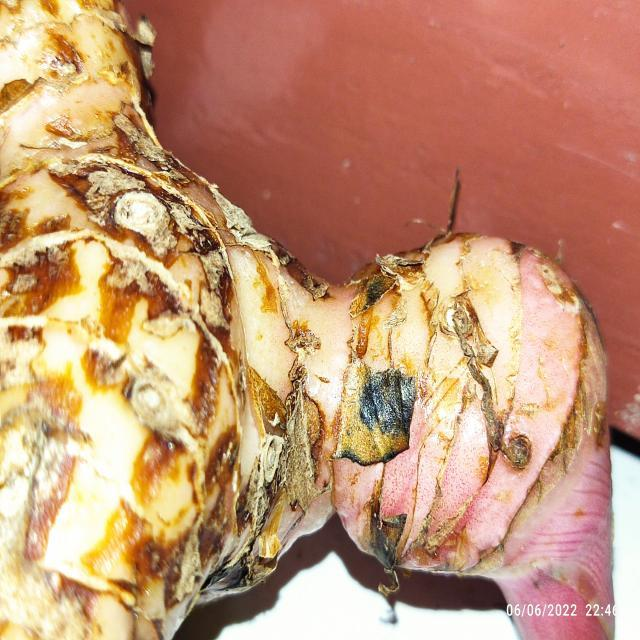ginger: (5, 0, 615, 586)
